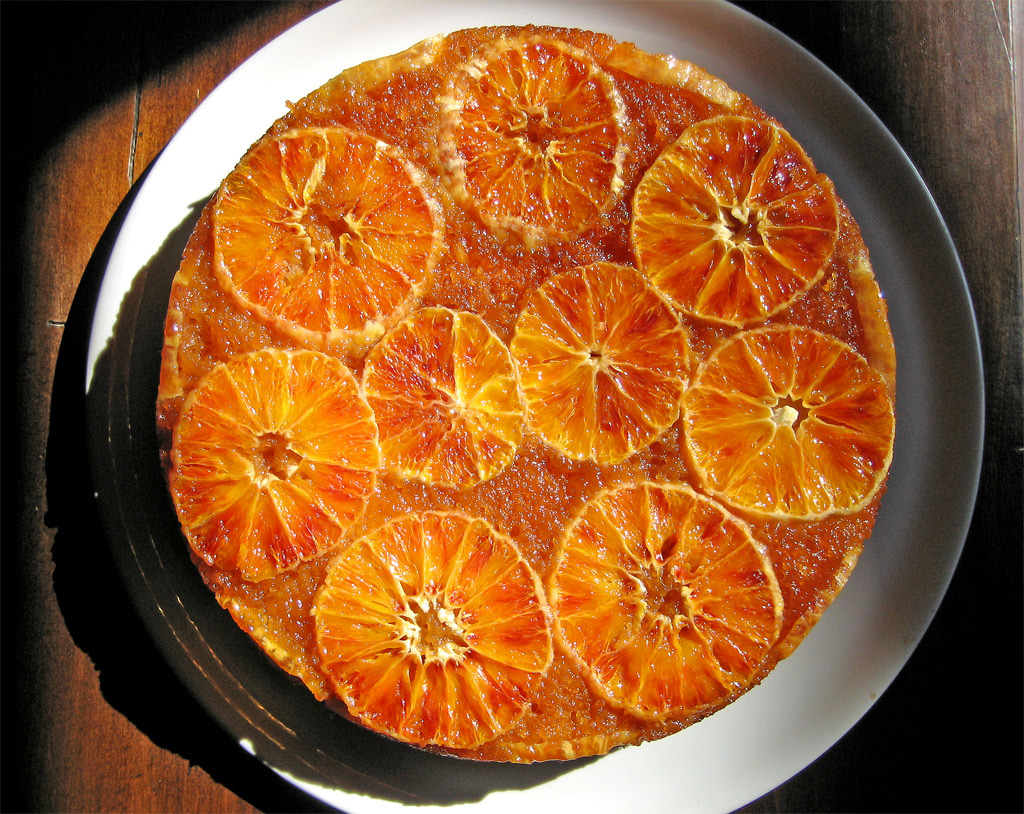Ripe: (295, 488, 580, 745)
